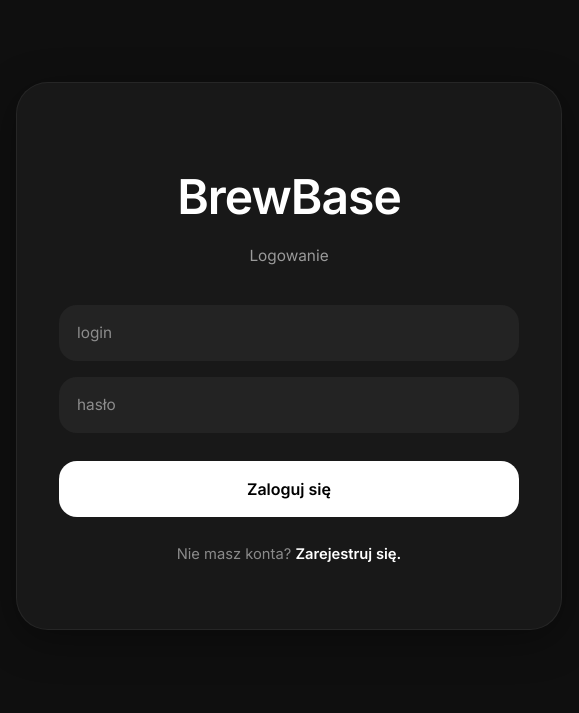
Test: Login › shows password hint after failed login
The width and height of the screenshot is (579, 713).
Type "tester" into the field with placeholder "login".
click(289, 333); type("tester")  # box 59,305 -> 519,361
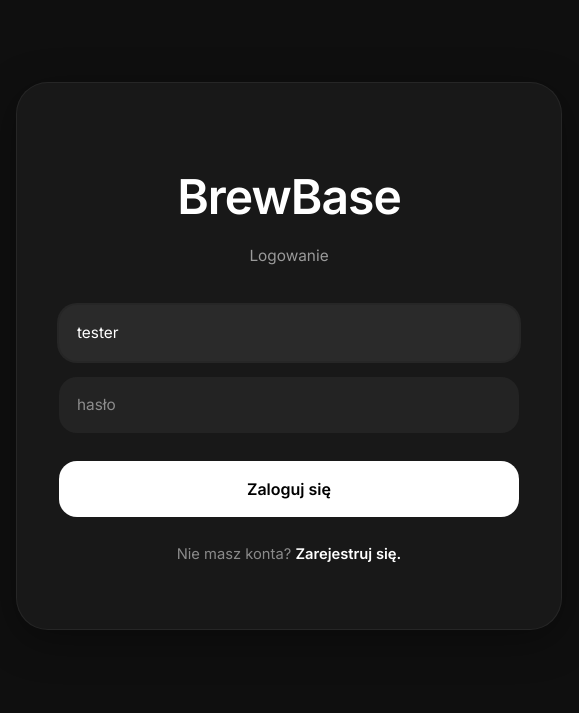
Type "wrong" into the password field with placeholder "hasło".
click(289, 405); type("wrong")  # box 59,377 -> 519,433
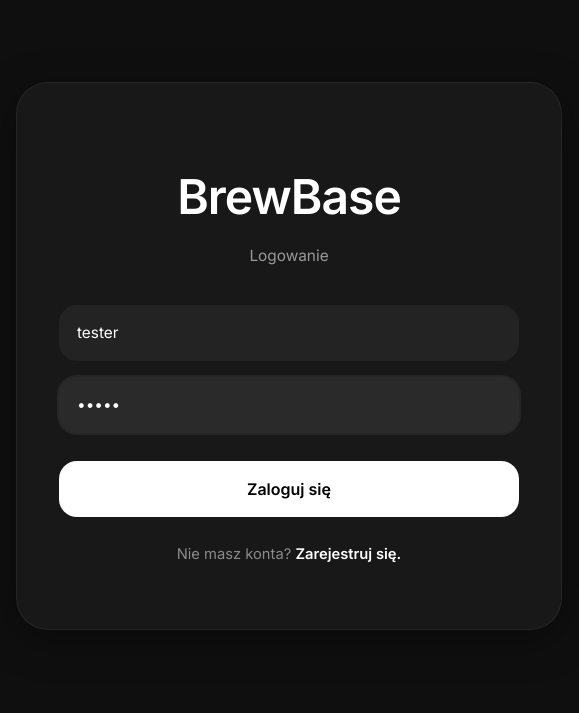
Click the button "Zaloguj się".
click(289, 489)  # box 59,461 -> 519,517
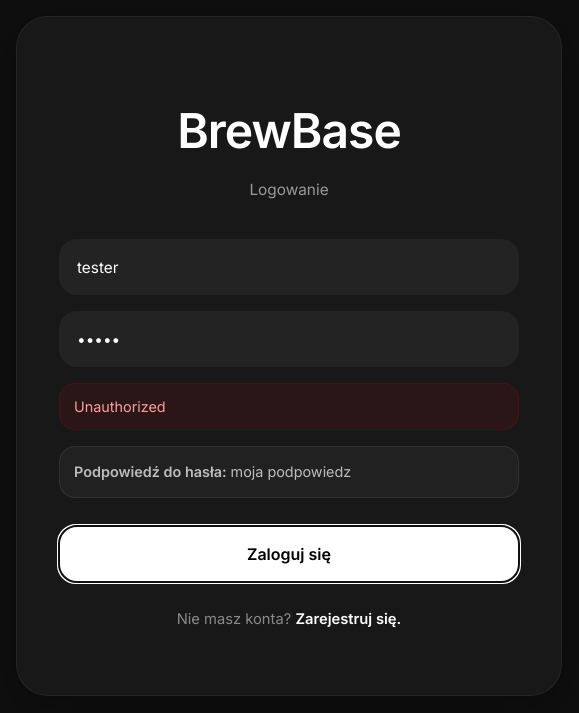
Expected: the text "Podpowiedź do hasła:" is shown, 74,463 -> 226,480
Expected: the text "Podpowiedź do hasła: moja podpowiedz" is shown, 59,446 -> 519,498
